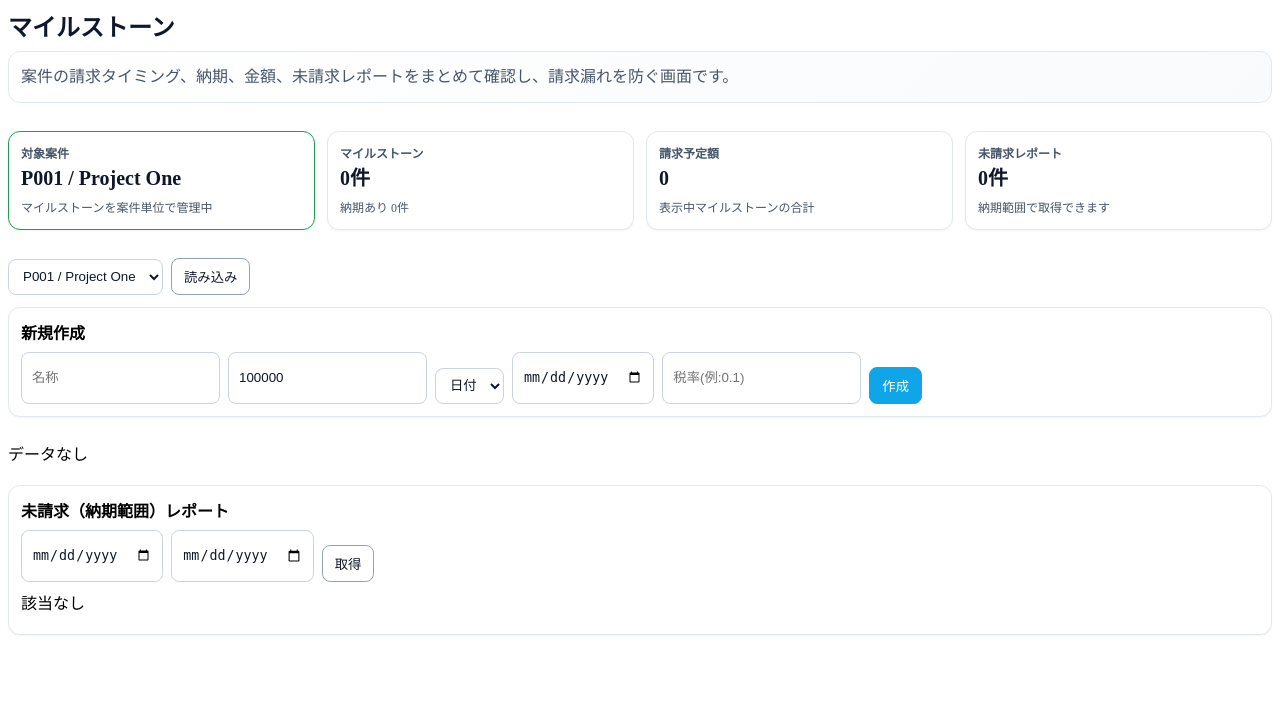
Test: ProjectMilestones › loads delivery due report with filters and shows errors on failure
Type "2026-05-01" into the date field named "from". click: (92, 556)
box: [21, 530, 163, 582]
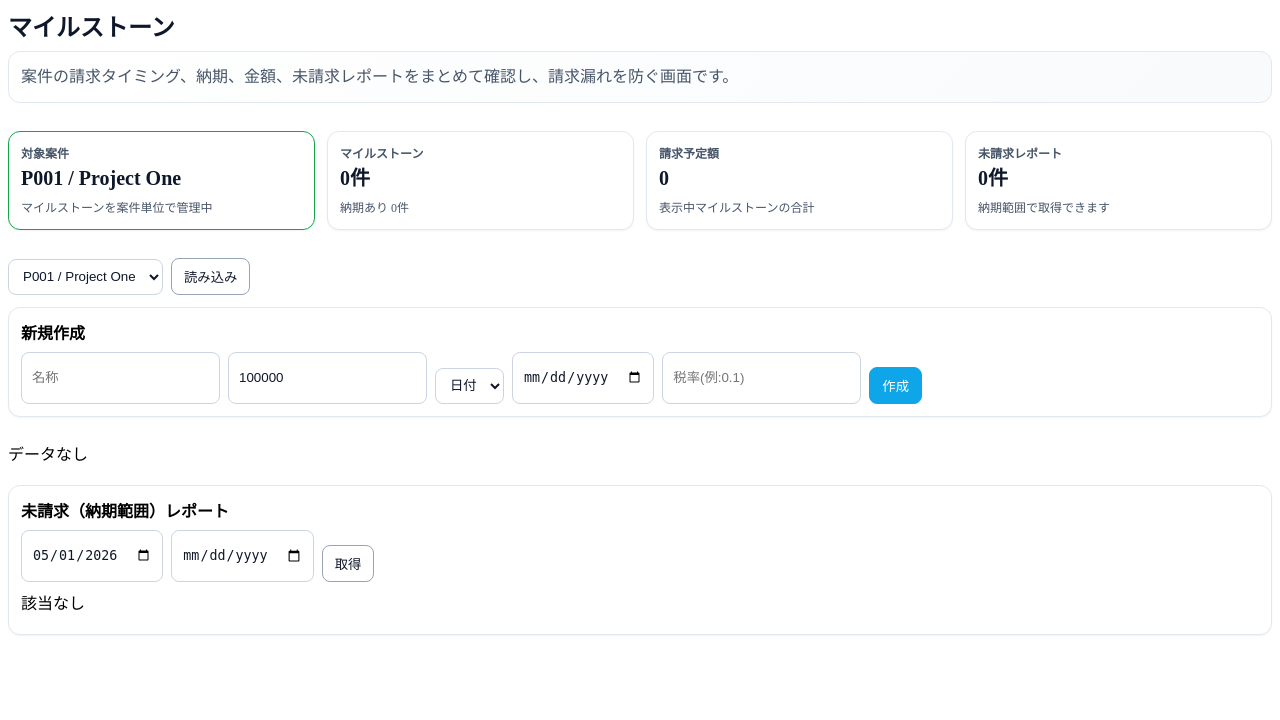
Type "2026-05-31" into the date field named "to". click: (242, 556)
box: [171, 530, 314, 582]
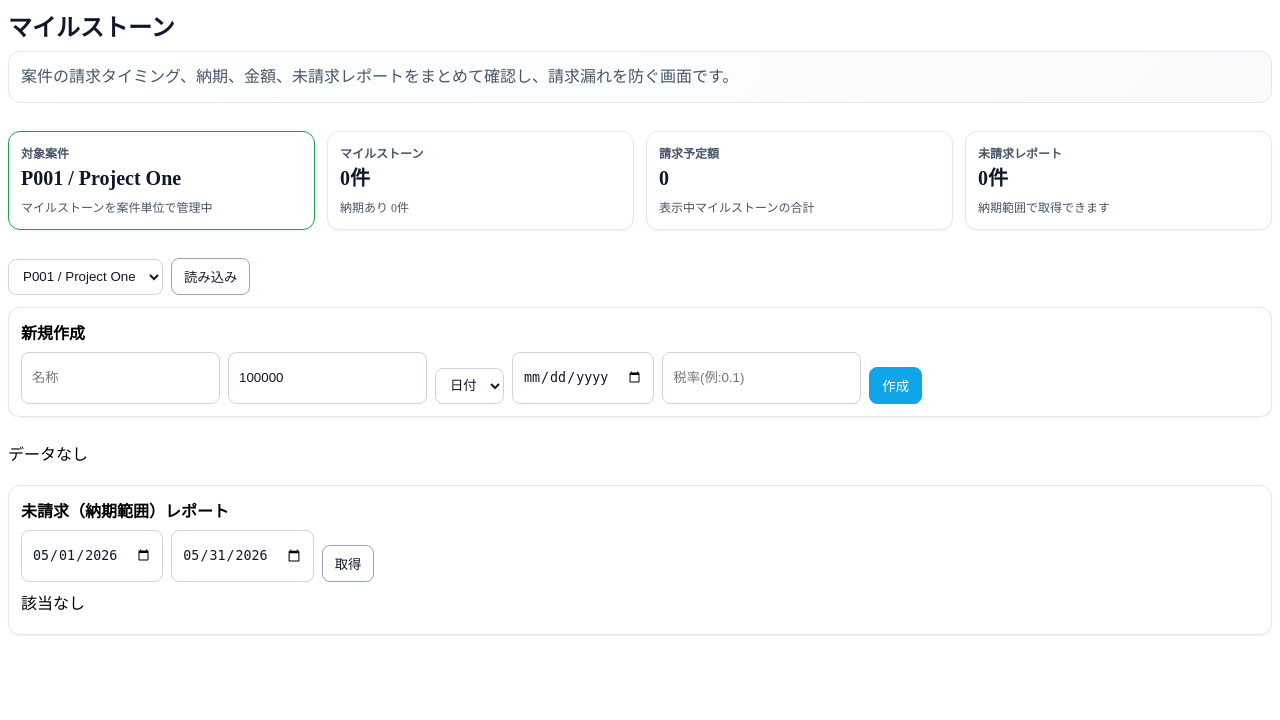
Click the button "取得". click: click(348, 563)
box: [322, 545, 374, 582]
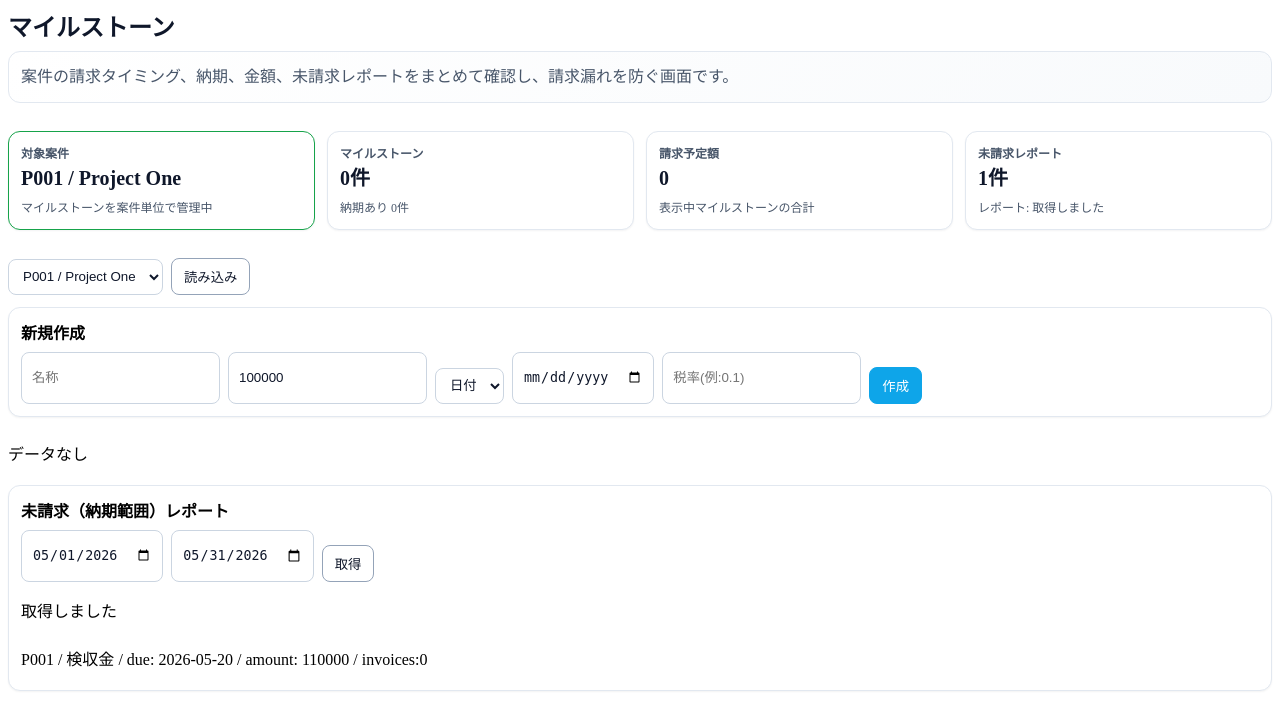
expect the text "取得しました" is shown: met, box [21, 603, 117, 620]
expect the list item "P001 / 検収金 / due: 2026-05-20 / amount: 110000 / invoices:0" is shown: met, box [21, 651, 428, 668]
Click the button "取得". click: click(348, 563)
box: [322, 545, 374, 582]
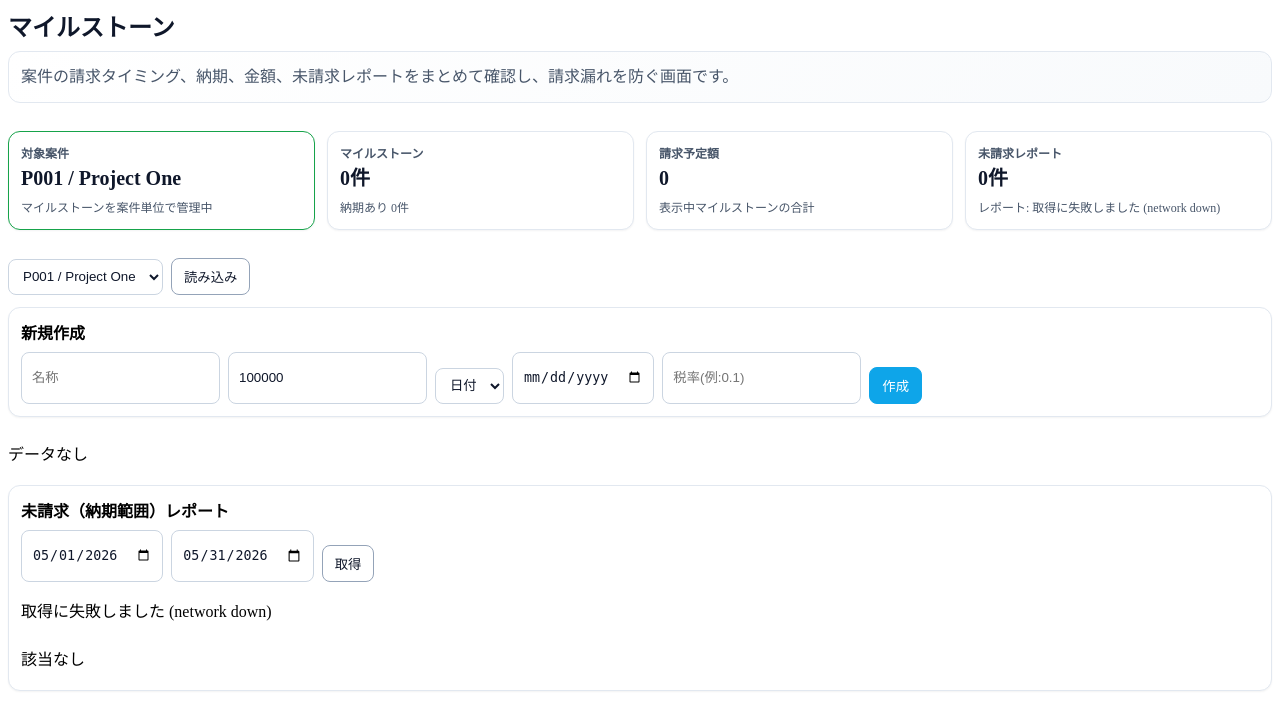
expect the text "取得に失敗しました (network down)" is shown: met, box [21, 603, 272, 620]
expect the list item "該当なし" is shown: met, box [21, 651, 85, 668]
